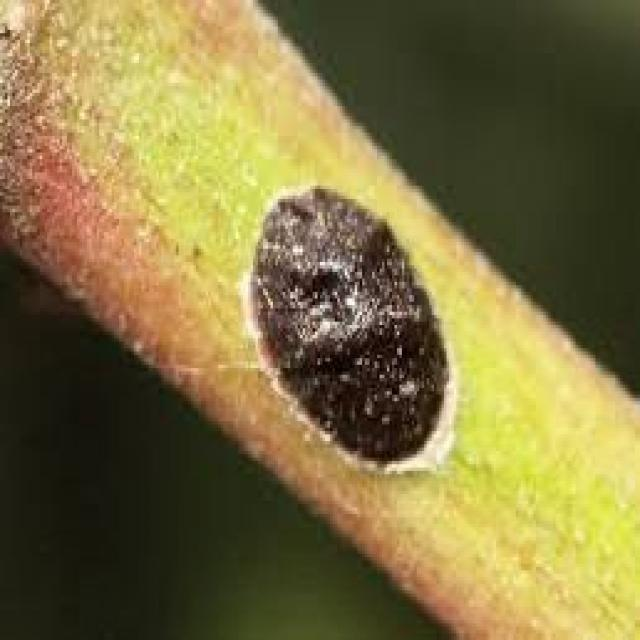BlackScale: (243, 186, 454, 471)
